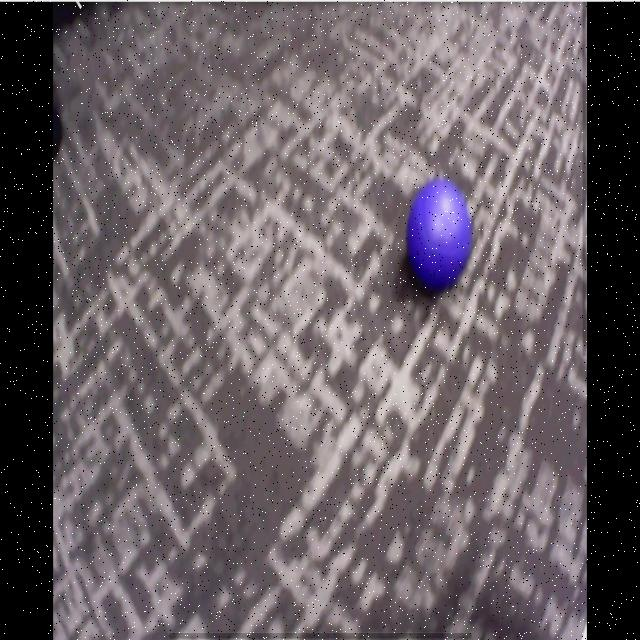ball: (408, 180, 472, 284)
